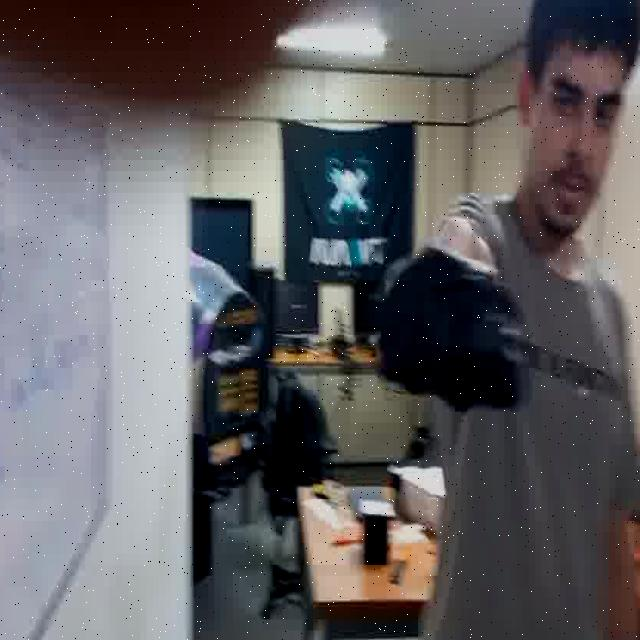Gloves: (370, 220, 535, 418)
